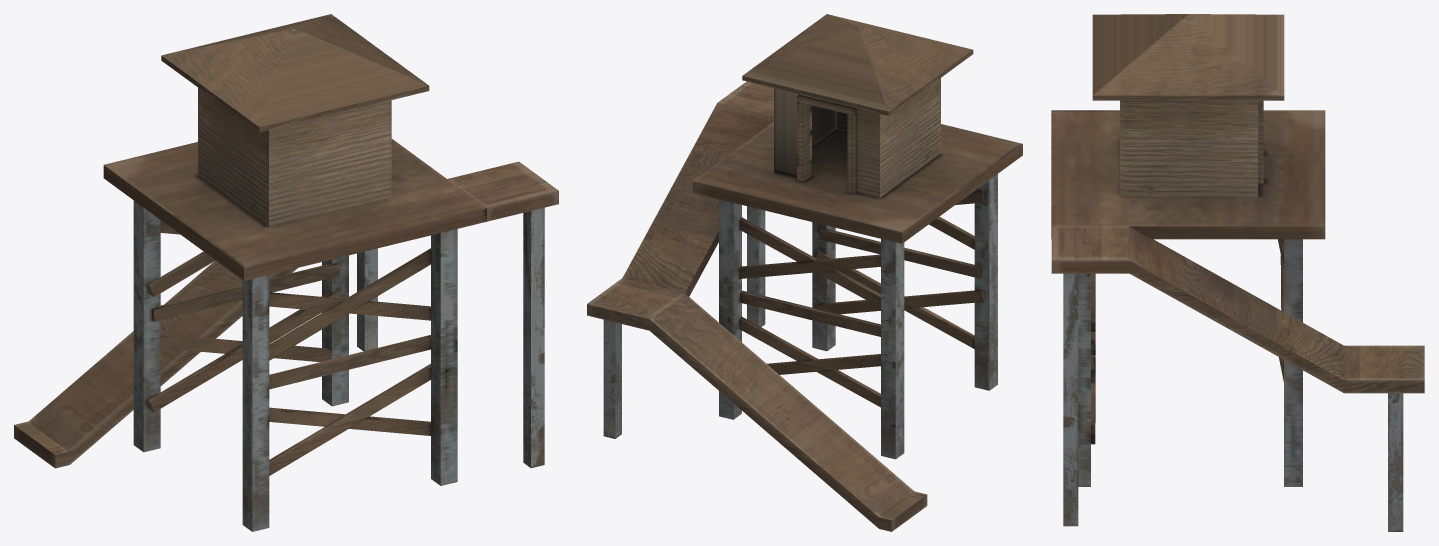
The model's file is Forest Watch Tower2.fbx.
3 renders of one model, left to right at view 1: azimuth 30°, elevation 25°; view 2: azimuth 150°, elevation 25°; view 3: azimuth 270°, elevation 25°, orthographic. The views are drawn at different scales.
Parts seen in each view (by area): view 1: Cube, Cube.001, Cube.002; view 2: Cube, Cube.002, Cube.001; view 3: Cube.001, Cube, Cube.002.
Boxes of the visible parts, x1,y1,x2,y2 form: Cube: [103, 139, 486, 531]; Cube.001: [161, 14, 429, 226]; Cube.002: [14, 161, 558, 468]; Cube: [692, 122, 1022, 459]; Cube.002: [587, 81, 927, 531]; Cube.001: [742, 14, 973, 197]; Cube.001: [1092, 14, 1284, 197]; Cube: [1051, 110, 1325, 486]; Cube.002: [1051, 226, 1424, 531].
Bounding box in the file's own units: 207 × 256 × 193.
1 material, 1 textured.
